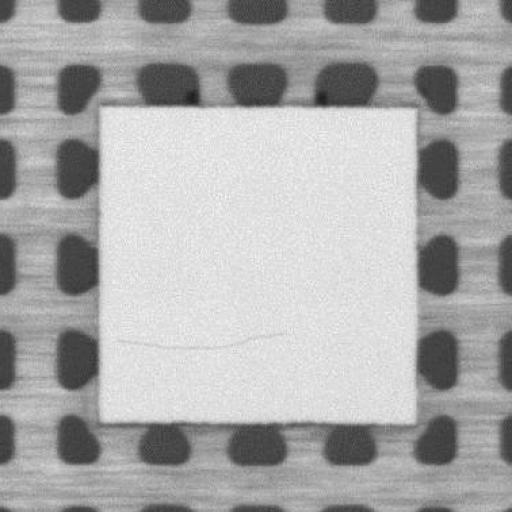DIE_CRACK: (112, 327, 286, 348)
